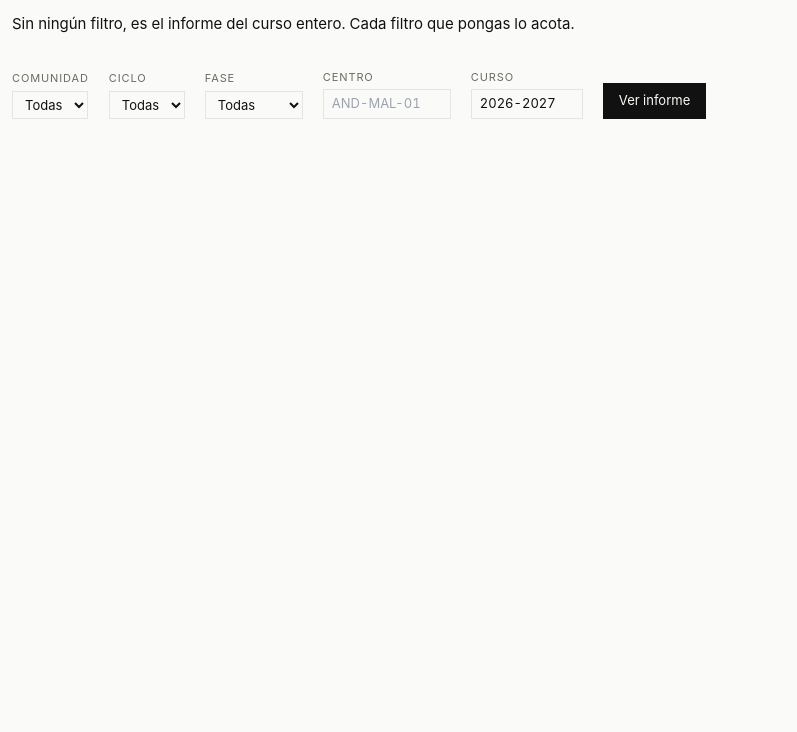
Test case: Informes › con un grupo pequeño enseña el aviso y ningún identificador
The width and height of the screenshot is (797, 732).
What coordinates should you click on to do the following:
click the button "Ver informe"
I would click on:
 (654, 101)
Its box is [603,83,706,119].
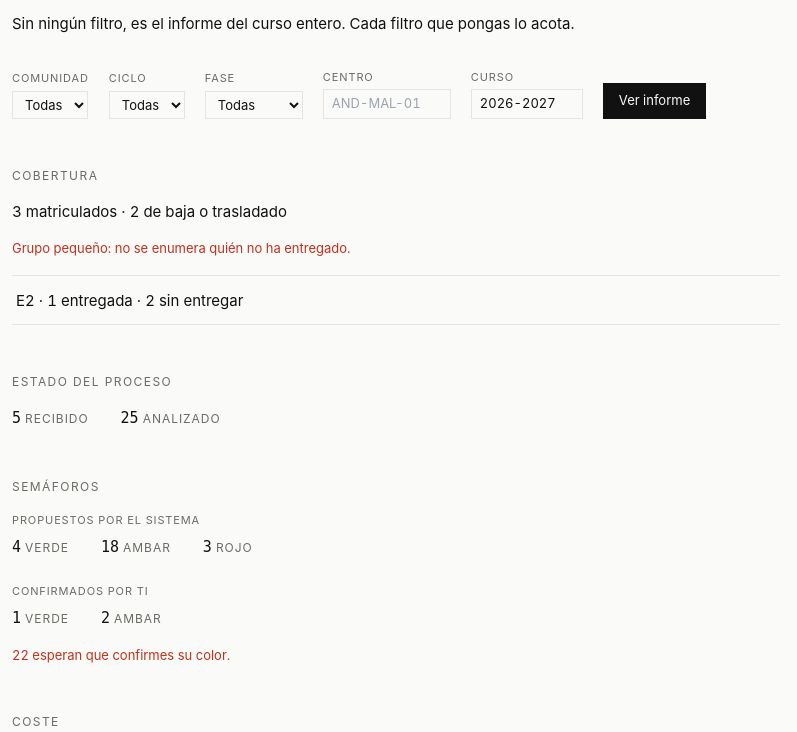
Check: the text "Grupo pequeño: no se enumera quién no ha entregado." is shown, box [12,240,350,256]
